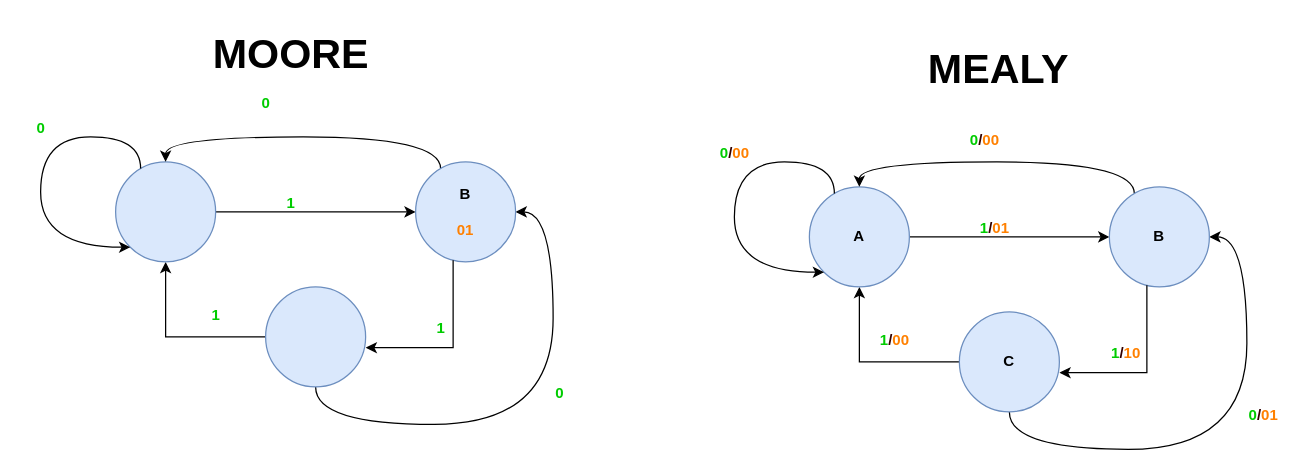
Image size: 1315x471. Some labels were removed from this diagram. The centre of each missing label's shape, as x and y in pixels:
A 00: point (165, 211)
C 10: point (315, 336)
